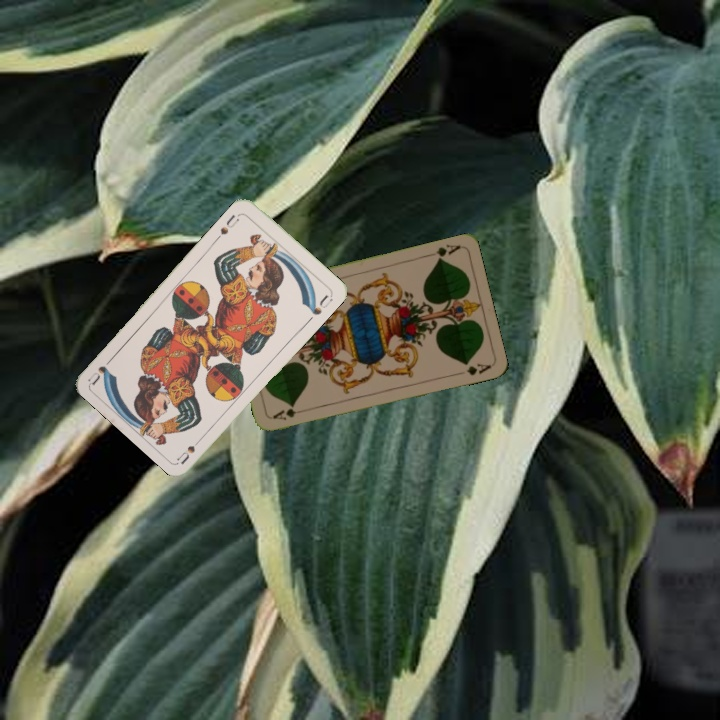GA: (423, 240, 463, 264), (269, 404, 309, 423)
SU: (174, 431, 207, 466), (212, 209, 244, 243)
